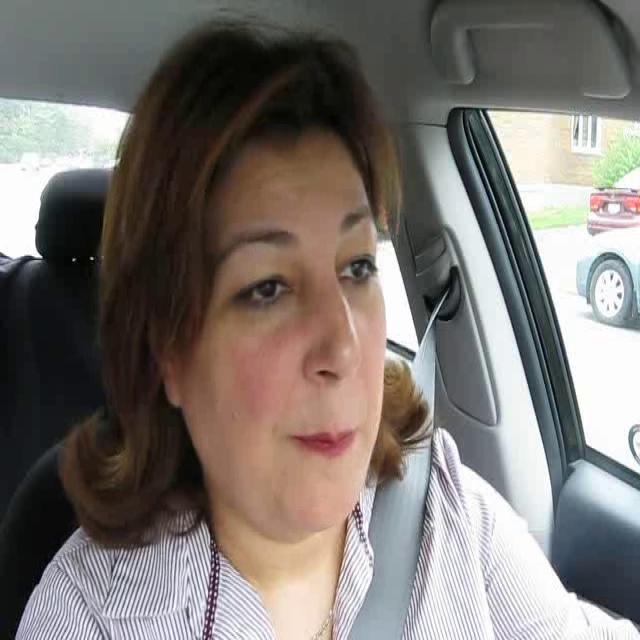close: (271, 419, 366, 461)
